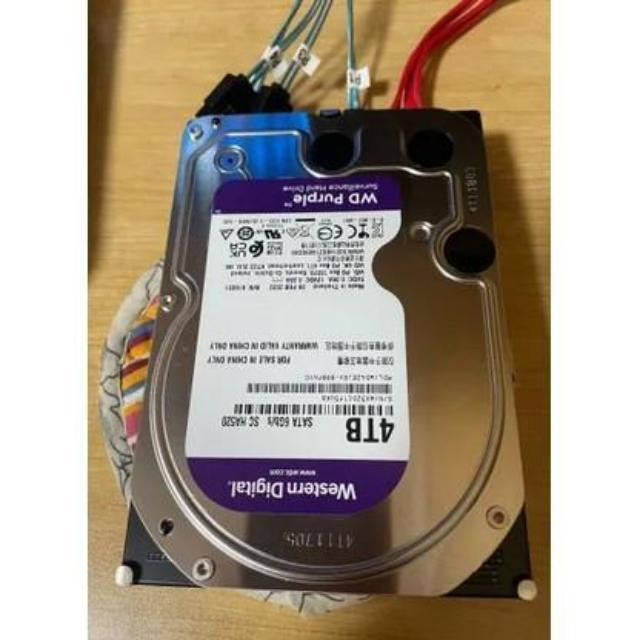DISK: (118, 110, 544, 612)
